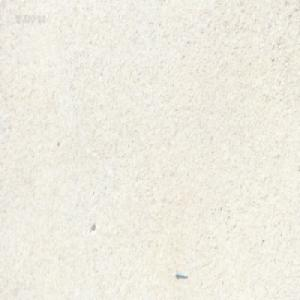Nail: (174, 270, 187, 278)
